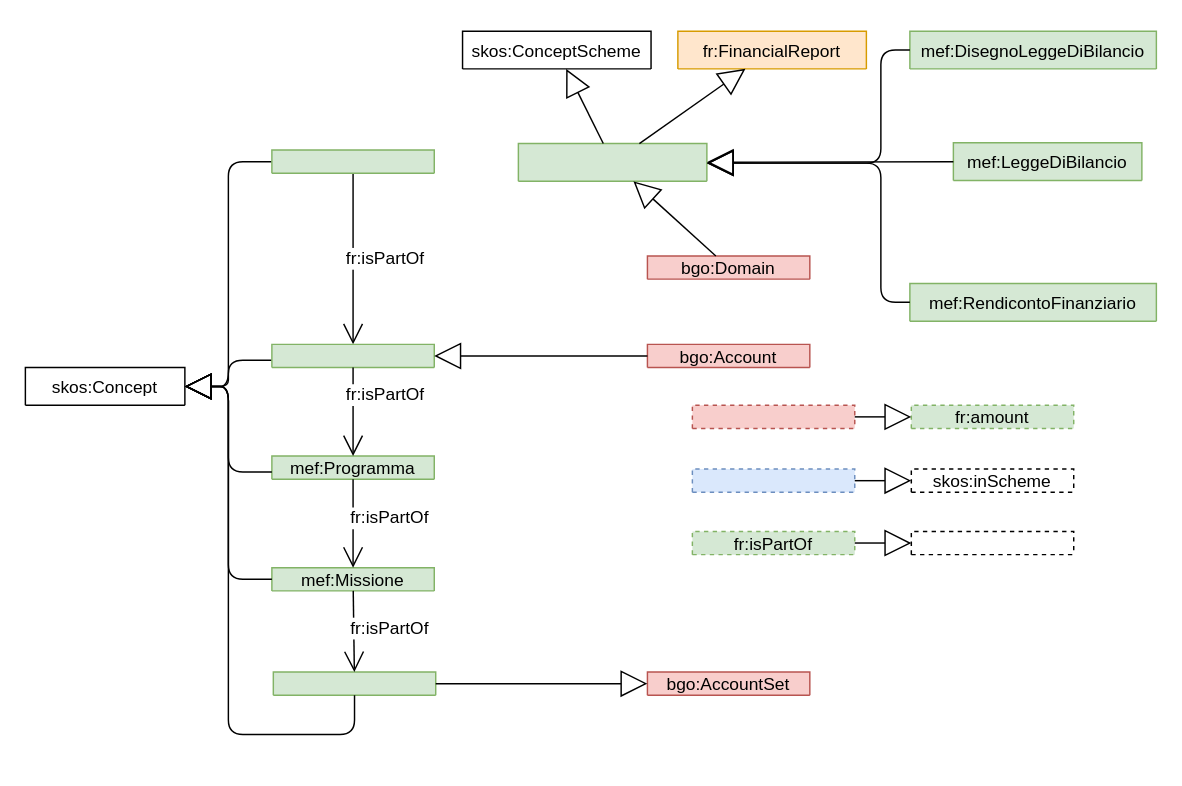
Some shapes in this 1182 by 786 pixel diagram are drawn without their labels. Each missing label, with the centre of its shape:
"bgo:amount" goes at point 773,416.
"mef:Azione" goes at point 352,355.
"mef:Capitolo" goes at point 352,161.
"mef:FinancialReport" goes at point 612,161.
"mef:Ministero" goes at point 354,683.
"qb:dataSet" goes at point 773,480.
"skos:broader" goes at point 992,542.
